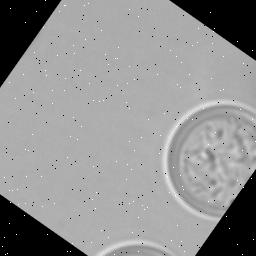picoshell: (164, 100, 256, 220), (95, 241, 173, 256)
